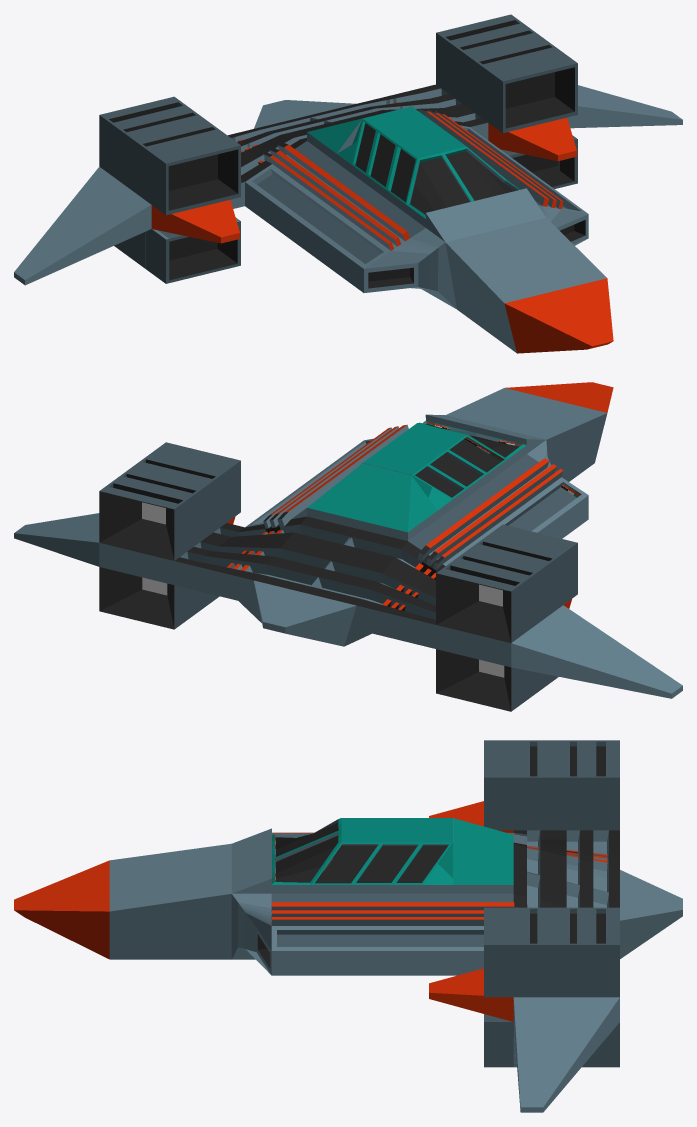
The model's file is Starship1.fbx.
The picture shows the model from 3 angles, top to bottom: view 1: azimuth 30°, elevation 25°; view 2: azimuth 150°, elevation 25°; view 3: azimuth 270°, elevation 25°; orthographic projection.
Visible parts, largest first — view 1: Cube; view 2: Cube; view 3: Cube.
Part boxes in pixels (x1,y1,x2,y2): Cube: (14, 14, 682, 353); Cube: (14, 382, 682, 711); Cube: (14, 740, 682, 1112).
Bounding box in the file's own units: 1277 × 246 × 1105.
Materials: 1 (1 with a texture image).
